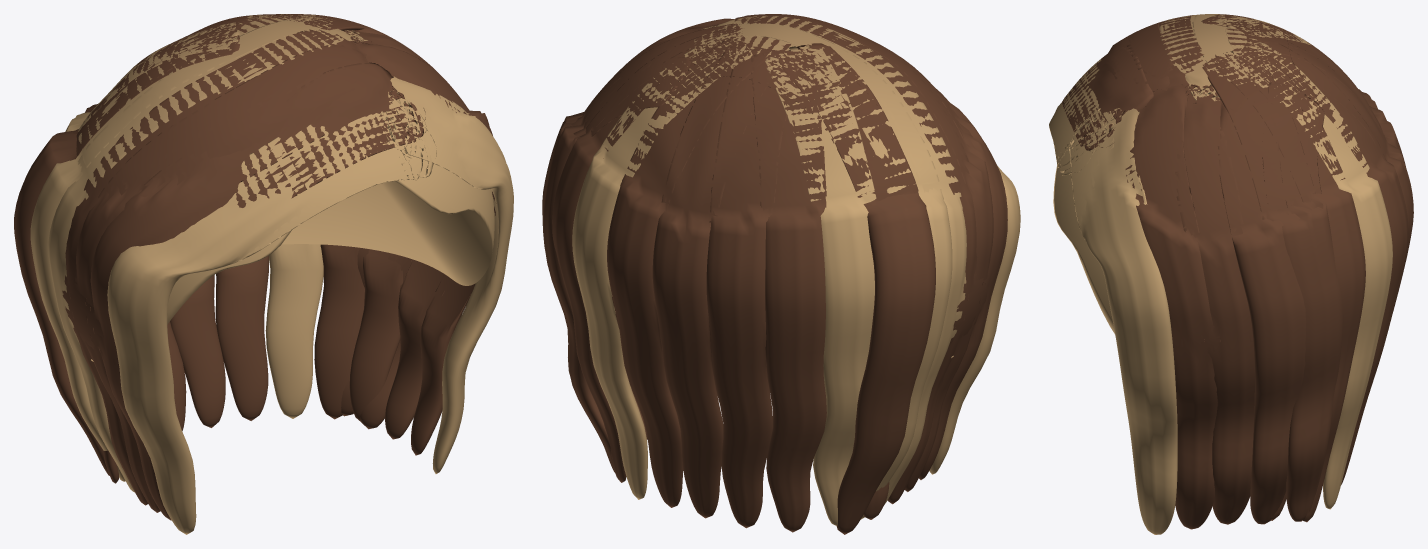
Rendered from Highlights-4e127813b736251-hair.glb.
3 renders of one model, left to right at view 1: azimuth 30°, elevation 25°; view 2: azimuth 150°, elevation 25°; view 3: azimuth 270°, elevation 25°, orthographic. The views are drawn at different scales.
Visible parts, largest first — view 1: 226 hair / Hair / sculpted 0.004, 226 hair / Hair / sculpted 1.008, 226 hair / Hair / sculpted 2.004, 226 hair / Hair / sculpted 1.007; view 2: 226 hair / Hair / sculpted 0.004, 226 hair / Hair / sculpted 2.004, 226 hair / Hair / sculpted 1.008; view 3: 226 hair / Hair / sculpted 1.008, 226 hair / Hair / sculpted 2.004, 226 hair / Hair / sculpted 0.004, 226 hair / Hair / sculpted 1.007.
Part boxes in pixels (x1=…): 226 hair / Hair / sculpted 0.004: x1=14, y1=14, x2=456, y2=534; 226 hair / Hair / sculpted 1.008: x1=48, y1=14, x2=513, y2=520; 226 hair / Hair / sculpted 2.004: x1=30, y1=14, x2=496, y2=512; 226 hair / Hair / sculpted 1.007: x1=91, y1=164, x2=494, y2=361; 226 hair / Hair / sculpted 0.004: x1=572, y1=14, x2=1020, y2=534; 226 hair / Hair / sculpted 2.004: x1=542, y1=14, x2=993, y2=525; 226 hair / Hair / sculpted 1.008: x1=542, y1=15, x2=1007, y2=532; 226 hair / Hair / sculpted 1.008: x1=1062, y1=14, x2=1408, y2=534; 226 hair / Hair / sculpted 2.004: x1=1085, y1=14, x2=1413, y2=529; 226 hair / Hair / sculpted 0.004: x1=1049, y1=14, x2=1405, y2=524; 226 hair / Hair / sculpted 1.007: x1=1053, y1=165, x2=1114, y2=333.
Size of the model in its own units: 1.02 by 1.07 by 0.8091.
